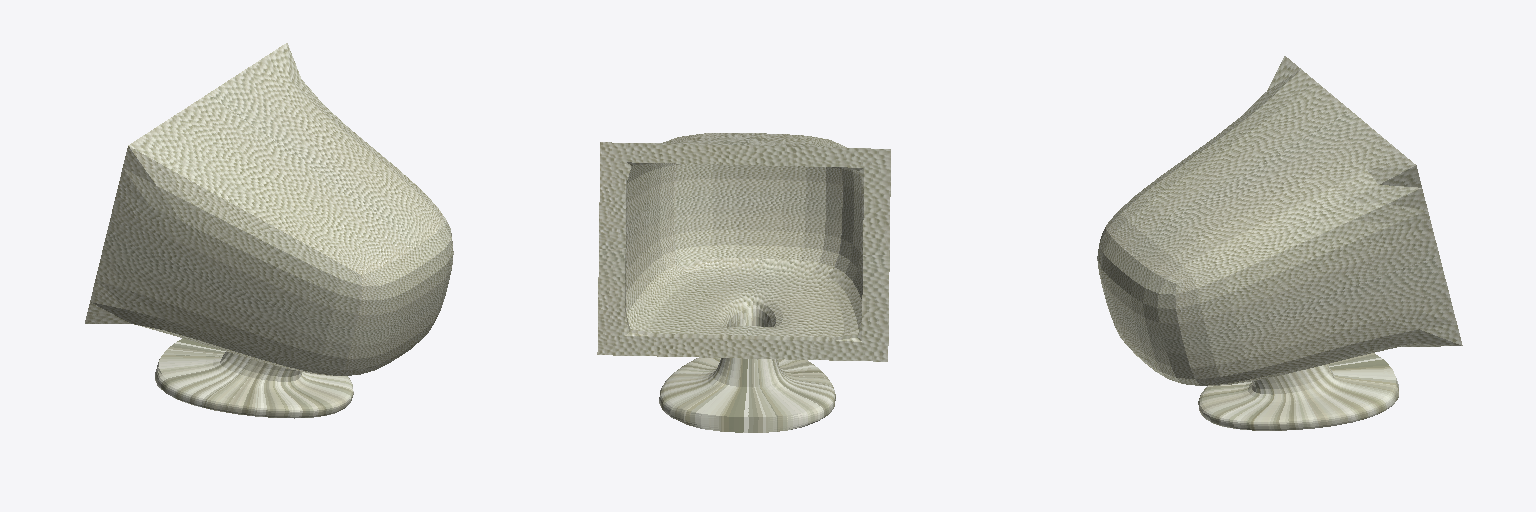
The picture shows the model from 3 angles: view 1: azimuth 30°, elevation 25°; view 2: azimuth 150°, elevation 25°; view 3: azimuth 270°, elevation 25°; orthographic projection.
Size of the model in its own units: 136 by 124 by 147.
Materials: 1 (1 with a texture image).